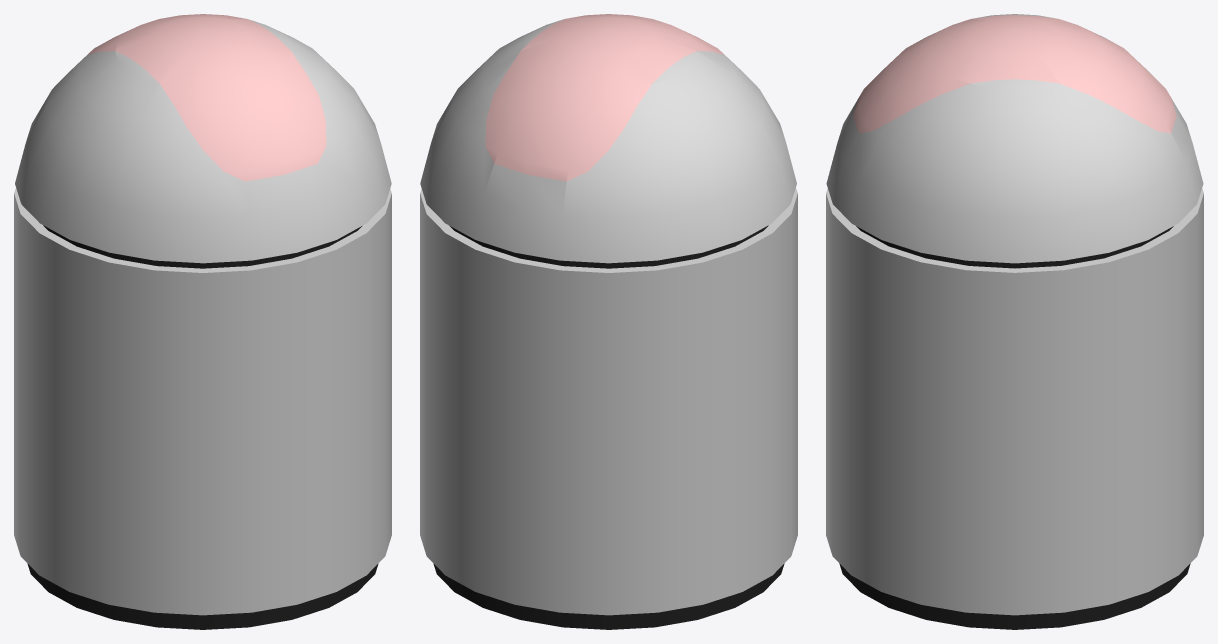
File: trash_bin.fbx
3 renders of one model, left to right at view 1: azimuth 30°, elevation 25°; view 2: azimuth 150°, elevation 25°; view 3: azimuth 270°, elevation 25°, orthographic.
Visible parts, largest first — view 1: trash_bin_brandt02_1, Group2, Group1; view 2: trash_bin_brandt02_1, Group2, Group1; view 3: trash_bin_brandt02_1, Group2, Group1.
Part boxes in pixels (left/top/right/bottom): trash_bin_brandt02_1: left=14, top=14, right=391, bottom=615; Group2: left=27, top=563, right=378, bottom=629; Group1: left=43, top=225, right=361, bottom=268; trash_bin_brandt02_1: left=420, top=14, right=797, bottom=615; Group2: left=433, top=563, right=784, bottom=629; Group1: left=450, top=225, right=768, bottom=268; trash_bin_brandt02_1: left=826, top=14, right=1203, bottom=615; Group2: left=839, top=563, right=1190, bottom=629; Group1: left=856, top=226, right=1173, bottom=268.
Size of the model in its own units: 0.18 by 0.275 by 0.18.
